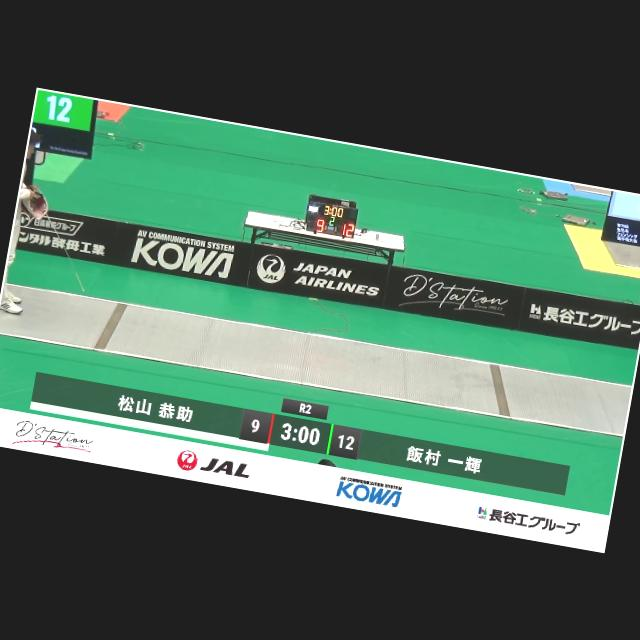blade: (20, 196, 104, 296)
